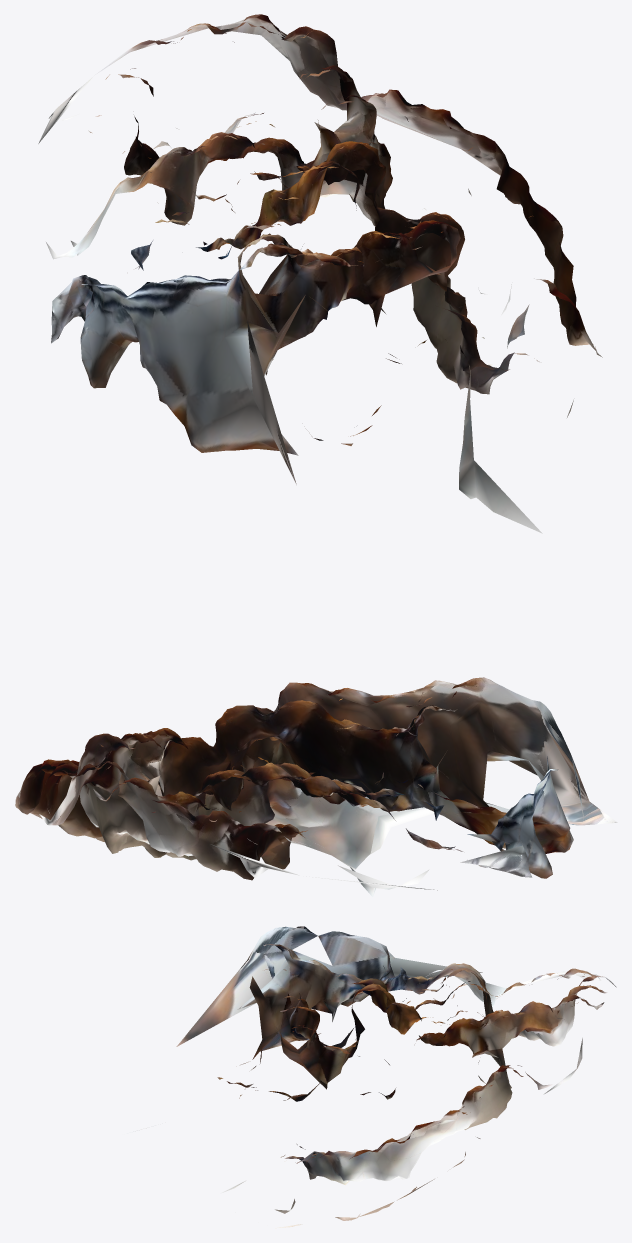
Rendered from Prayer beads in glass.glb.
3 views of the same model, one above another, from view 1: azimuth 30°, elevation 25°; view 2: azimuth 150°, elevation 25°; view 3: azimuth 270°, elevation 25° (orthographic). The views are drawn at different scales.
Size of the model in its own units: 1.07 by 0.6021 by 1.53.
Materials: 1 (1 with a texture image).
